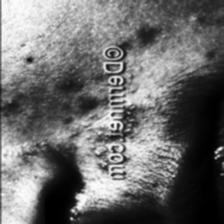Non-Cancerous Skin Condition: (135, 24, 158, 42), (0, 161, 13, 186), (58, 76, 76, 89)
